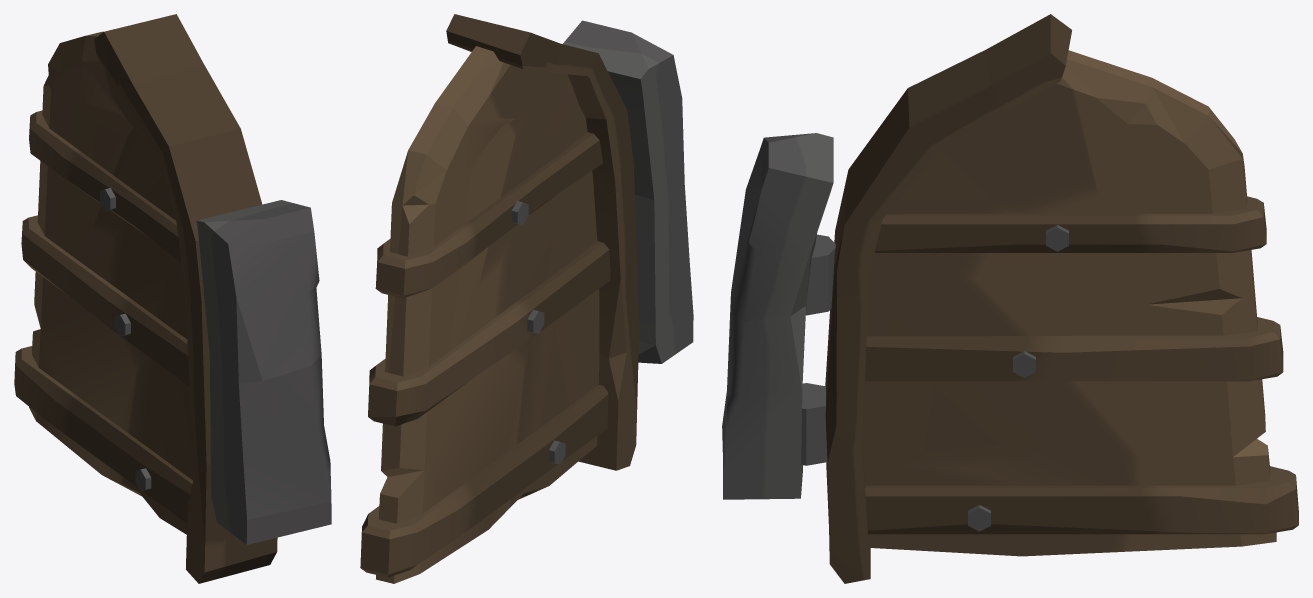
The model's file is SM_Veh_Ship_S_Rudder_01.fbx.
3 views of the same model, side by side, from view 1: azimuth 30°, elevation 25°; view 2: azimuth 150°, elevation 25°; view 3: azimuth 270°, elevation 25° (orthographic). The views are drawn at different scales.
Visible parts, largest first — view 1: SM_Veh_Ship_S_Rudder_01; view 2: SM_Veh_Ship_S_Rudder_01; view 3: SM_Veh_Ship_S_Rudder_01.
Boxes of the visible parts, x1,y1,x2,y2 form: SM_Veh_Ship_S_Rudder_01: [14, 14, 331, 583]; SM_Veh_Ship_S_Rudder_01: [360, 14, 693, 583]; SM_Veh_Ship_S_Rudder_01: [722, 14, 1298, 583].
Size of the model in its own units: 41.29 by 224 by 221.
